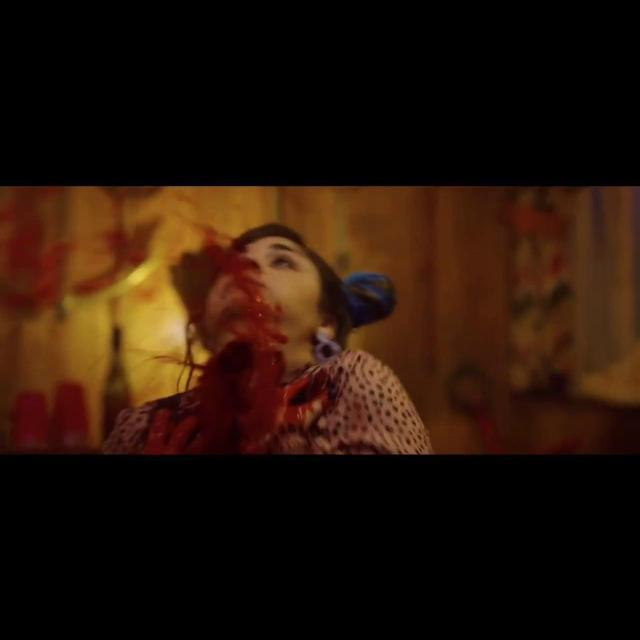blood: (103, 228, 339, 455), (0, 198, 76, 322), (73, 199, 154, 295), (171, 212, 206, 230), (174, 195, 194, 214)
